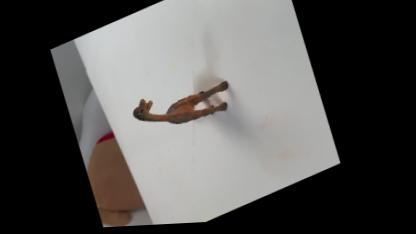brontosaurus: (129, 64, 241, 149)
